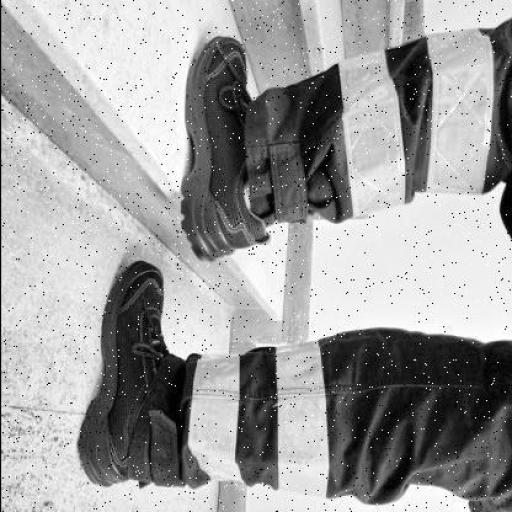safety_shoe: (76, 274, 170, 488), (174, 30, 254, 252)
